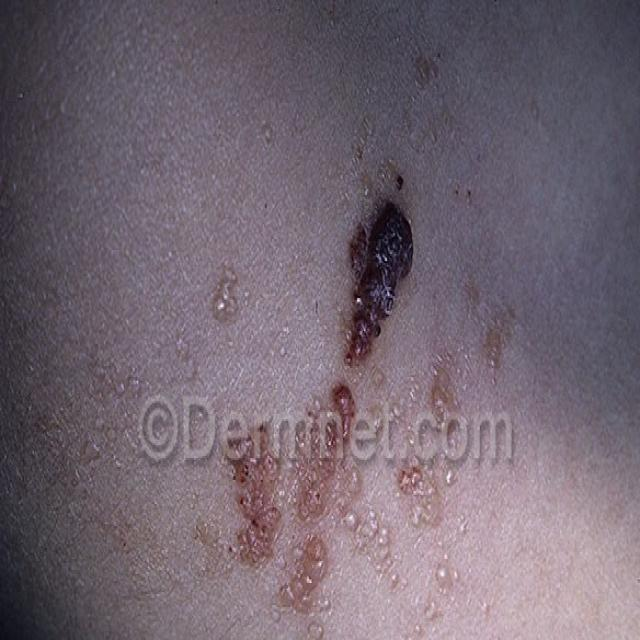Vascular Tumors: (182, 117, 507, 386), (196, 461, 503, 640)
